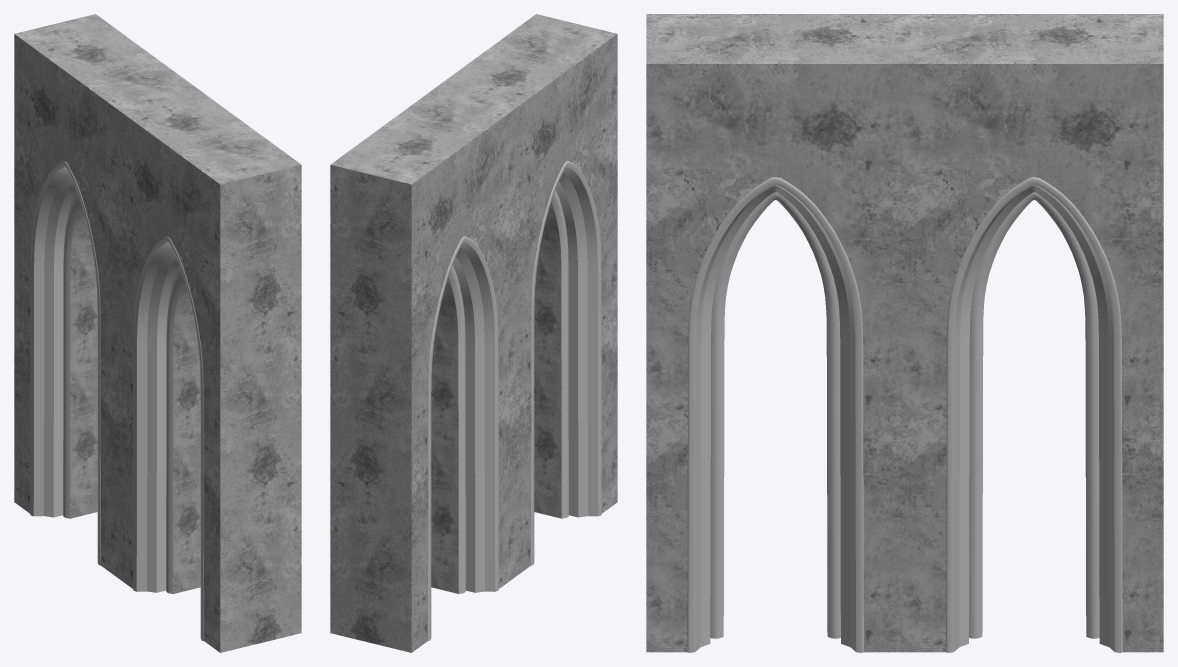
Rendered from SM_Wall_01a.fbx.
The picture shows the model from 3 angles, left to right: view 1: azimuth 30°, elevation 25°; view 2: azimuth 150°, elevation 25°; view 3: azimuth 270°, elevation 25°; orthographic projection. The views are drawn at different scales.
Parts seen in each view (by area): view 1: SM_Wall_01a_LOD0; view 2: SM_Wall_01a_LOD0; view 3: SM_Wall_01a_LOD0.
Part boxes in pixels (left/top/right/bottom): SM_Wall_01a_LOD0: left=14, top=14, right=301, bottom=652; SM_Wall_01a_LOD0: left=330, top=14, right=617, bottom=652; SM_Wall_01a_LOD0: left=646, top=14, right=1163, bottom=652.
Bounding box in the file's own units: 206 × 877 × 1100.
